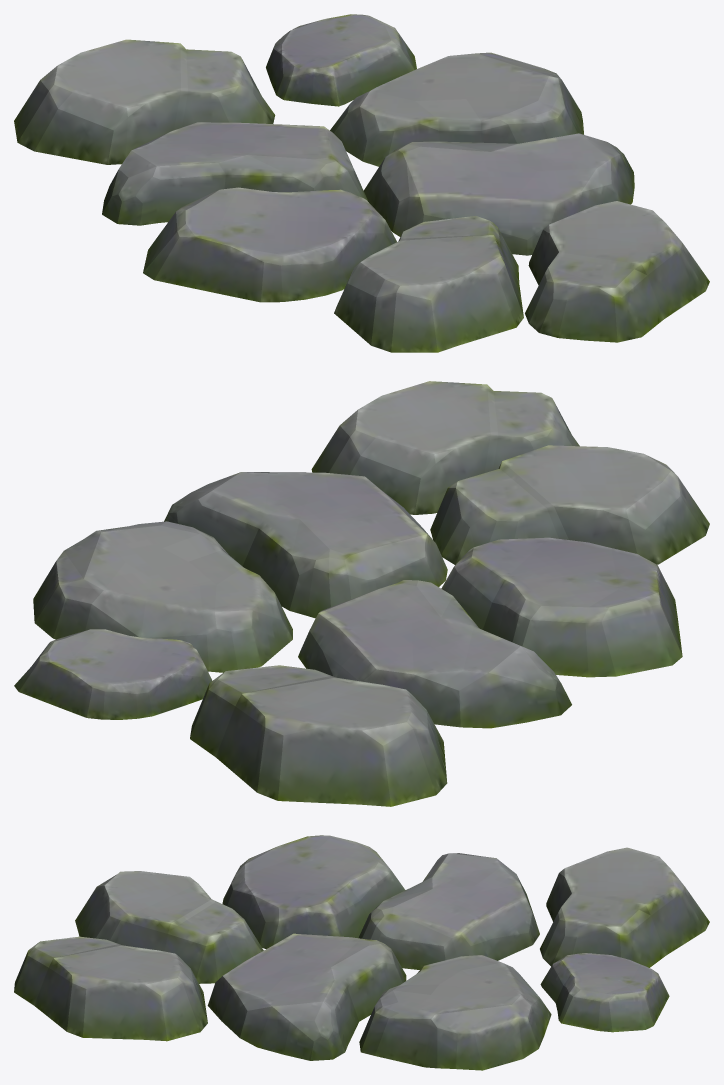
File: n_RockPath_Round_Small_1.glb
3 views of the same model, one above another, from view 1: azimuth 30°, elevation 25°; view 2: azimuth 150°, elevation 25°; view 3: azimuth 270°, elevation 25° (orthographic). The views are drawn at different scales.
Parts seen in each view (by area): view 1: RockPath_Round_Small_1; view 2: RockPath_Round_Small_1; view 3: RockPath_Round_Small_1.
Boxes of the visible parts, x1,y1,x2,y2 form: RockPath_Round_Small_1: (14,14,709,352); RockPath_Round_Small_1: (14,381,709,806); RockPath_Round_Small_1: (14,835,709,1070).
Size of the model in its own units: 1.06 by 0.1128 by 1.48.
Materials: 1 (1 with a texture image).
